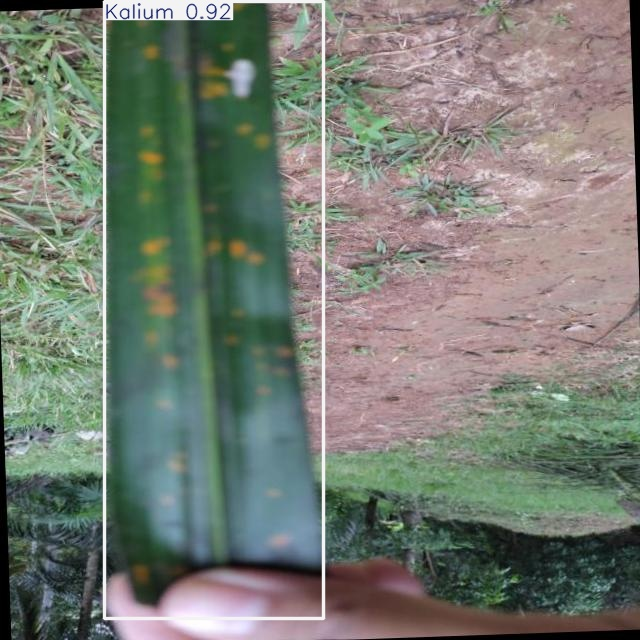Kalium: (105, 1, 323, 619)
